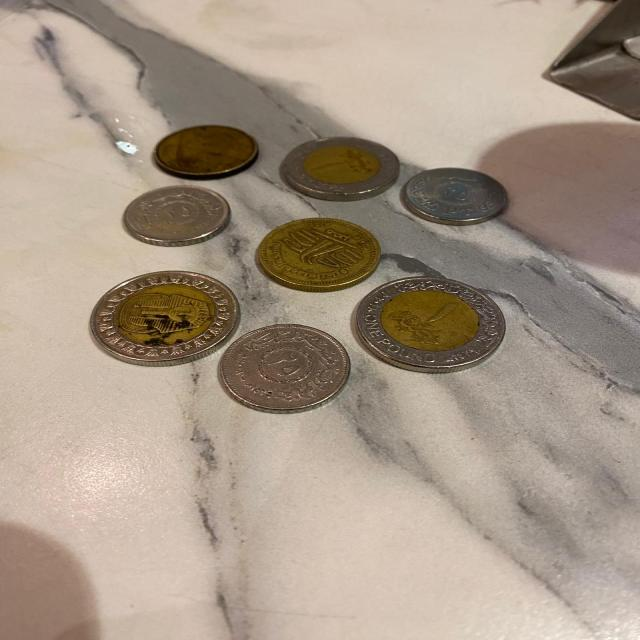Half Pound: (253, 214, 390, 292), (146, 114, 260, 180)
One Pound: (64, 259, 244, 369), (338, 270, 522, 376), (280, 129, 405, 205)
quarter pound: (208, 318, 366, 424), (392, 159, 524, 231), (117, 178, 240, 252)
